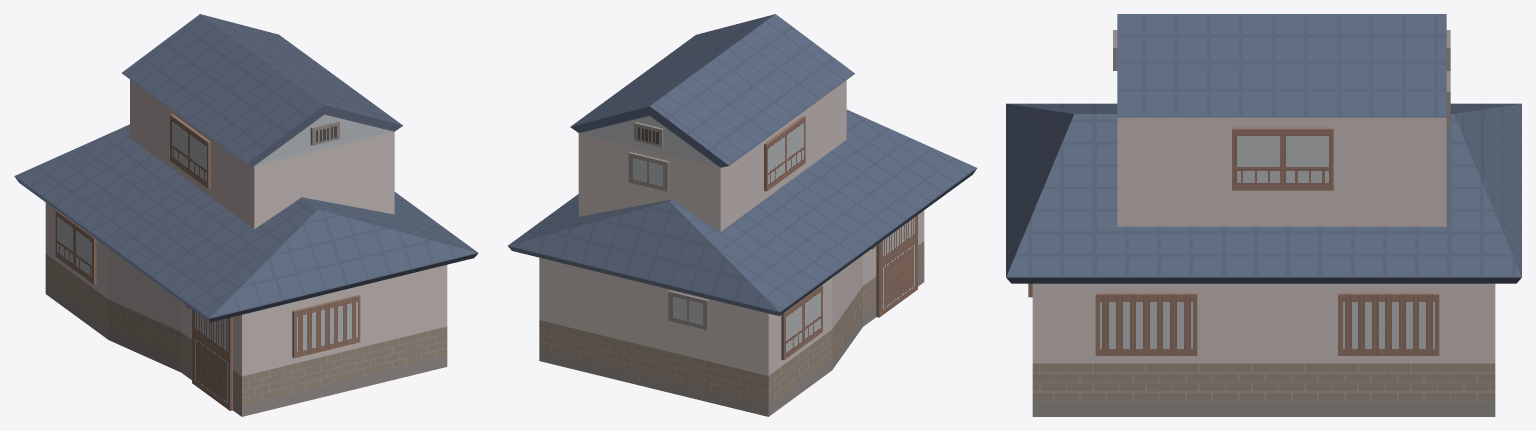
File: 00fc_Konishi_Residence.glb
3 views of the same model, side by side, from view 1: azimuth 30°, elevation 25°; view 2: azimuth 150°, elevation 25°; view 3: azimuth 270°, elevation 25° (orthographic). The views are drawn at different scales.
Visible parts, largest first — view 1: part_0; view 2: part_0; view 3: part_0.
Part boxes in pixels (x1,y1,x2,y2): part_0: (14,14,478,416); part_0: (508,14,977,416); part_0: (1006,14,1521,416).
Size of the model in its own units: 4.87 by 4.5 by 6.1.
Materials: 1 (1 with a texture image).
